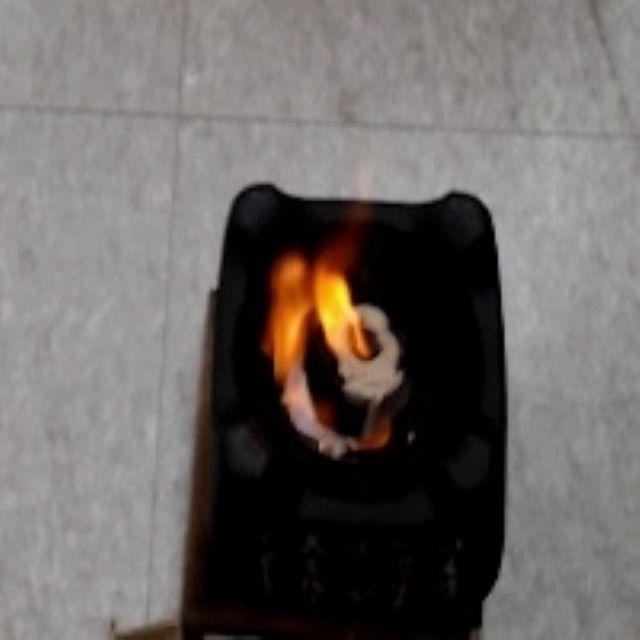Fire: (262, 240, 374, 398)
